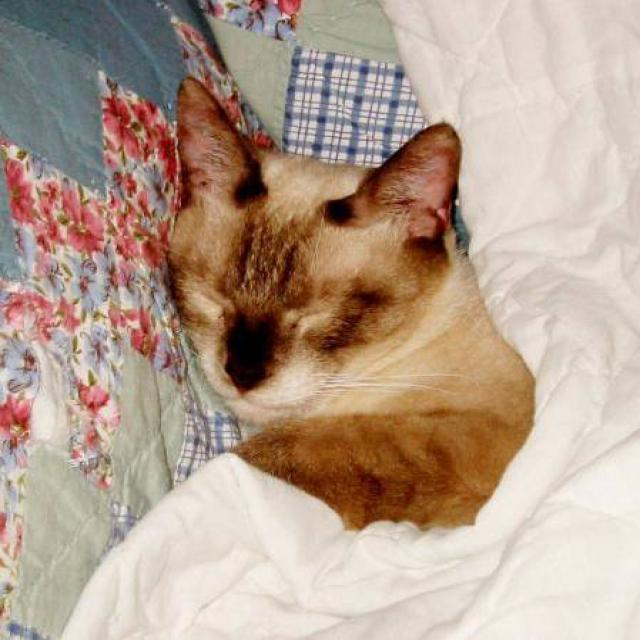cat: (164, 75, 537, 532)
